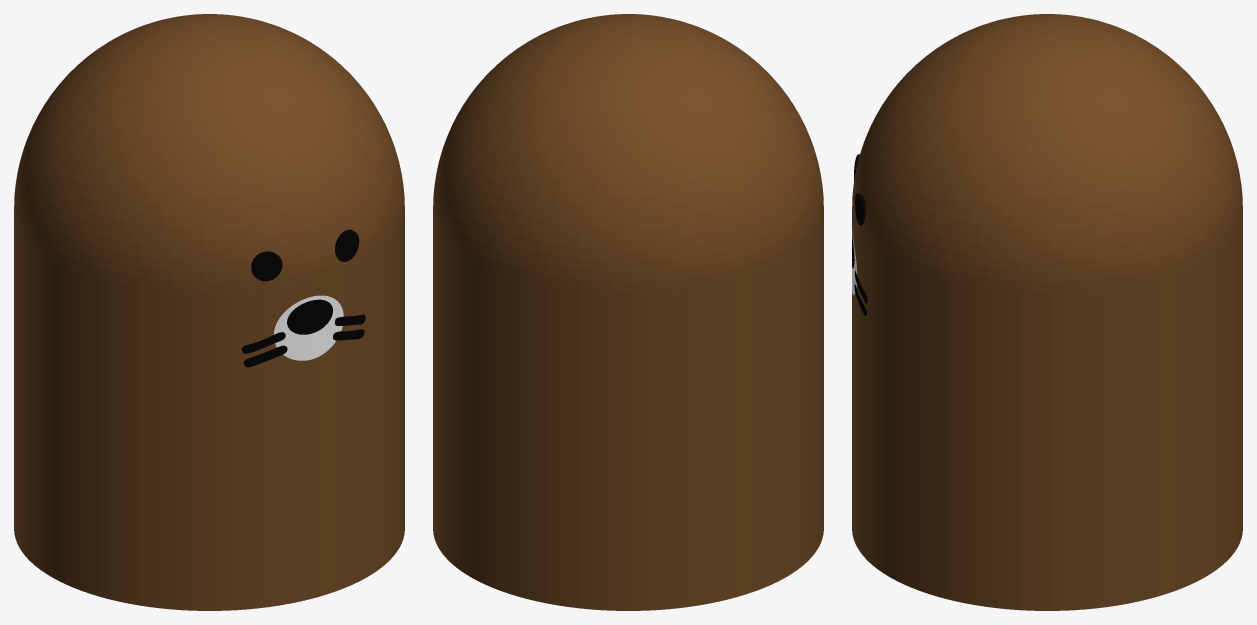
3 views of the same model, side by side, from view 1: azimuth 30°, elevation 25°; view 2: azimuth 150°, elevation 25°; view 3: azimuth 270°, elevation 25° (orthographic).
Parts seen in each view (by area): view 1: body, mouth, beard, nose, eye_left, eye_right; view 2: body; view 3: body.
Part boxes in pixels (left/top/right/bottom): body: left=14, top=14, right=404, bottom=610; mouth: left=273, top=295, right=343, bottom=360; beard: left=242, top=314, right=365, bottom=367; nose: left=287, top=299, right=332, bottom=334; eye_left: left=251, top=251, right=282, bottom=281; eye_right: left=335, top=229, right=359, bottom=261; body: left=433, top=14, right=823, bottom=610; body: left=852, top=14, right=1242, bottom=610.
Bounding box in the file's own units: 9998 × 14000 × 9999.
